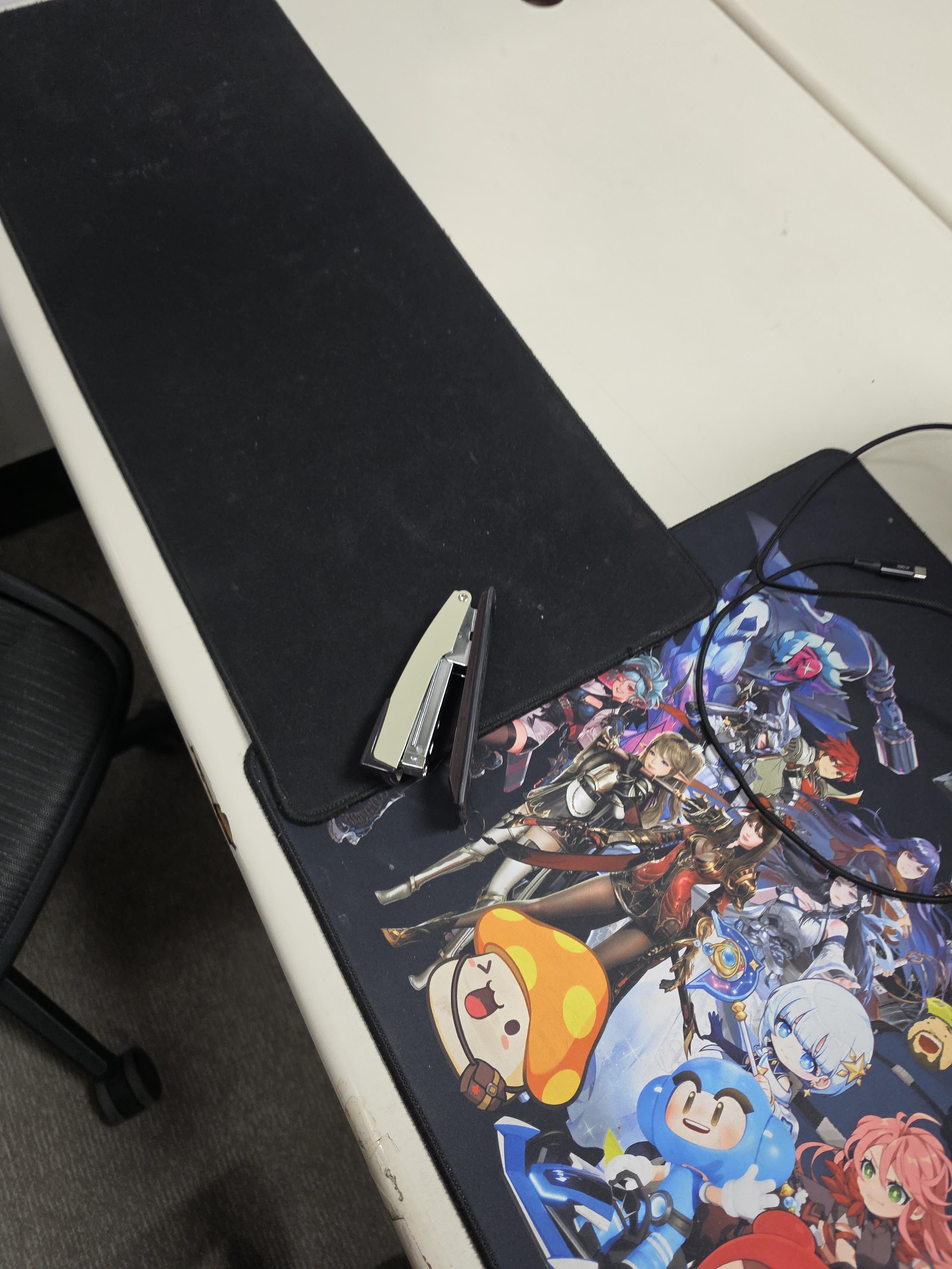stapler: (362, 584, 496, 838)
